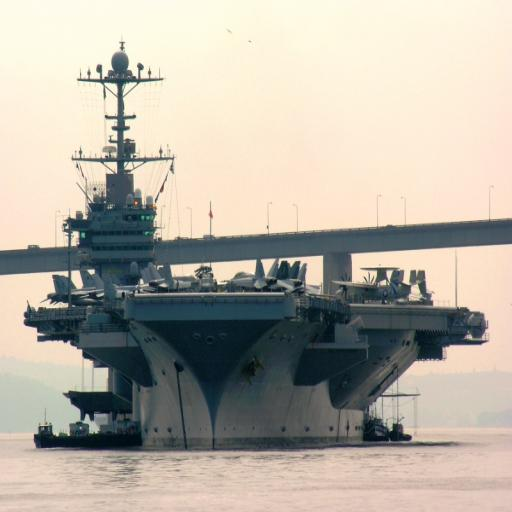Portanaves: (24, 40, 493, 452)
